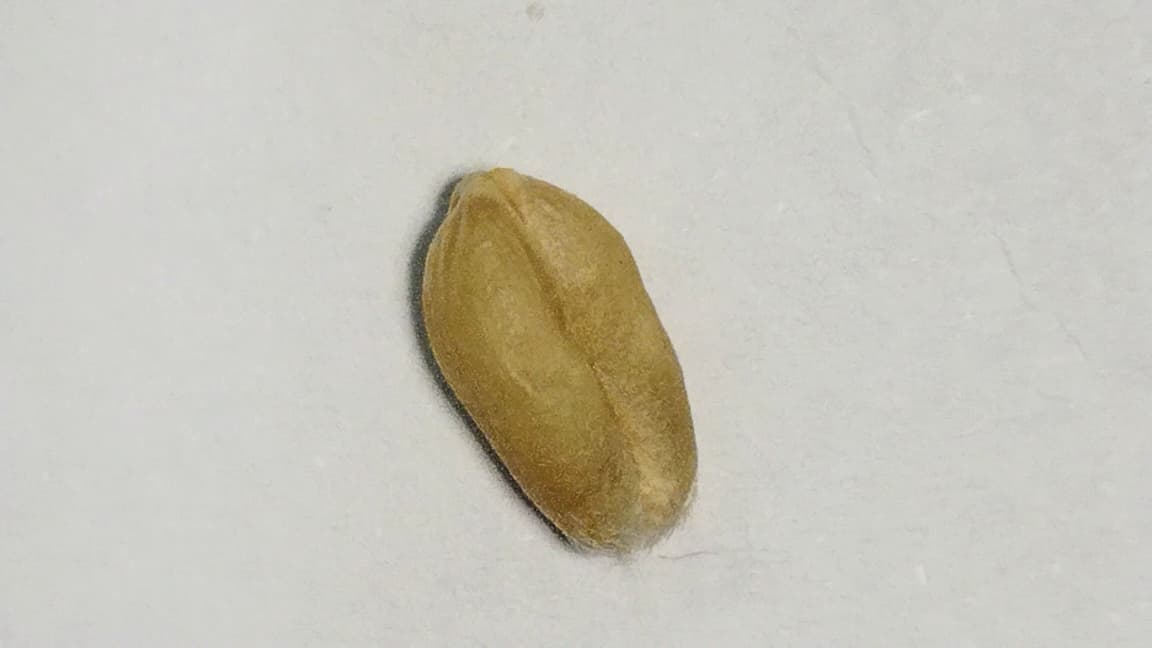healthy: (424, 169, 696, 543)
